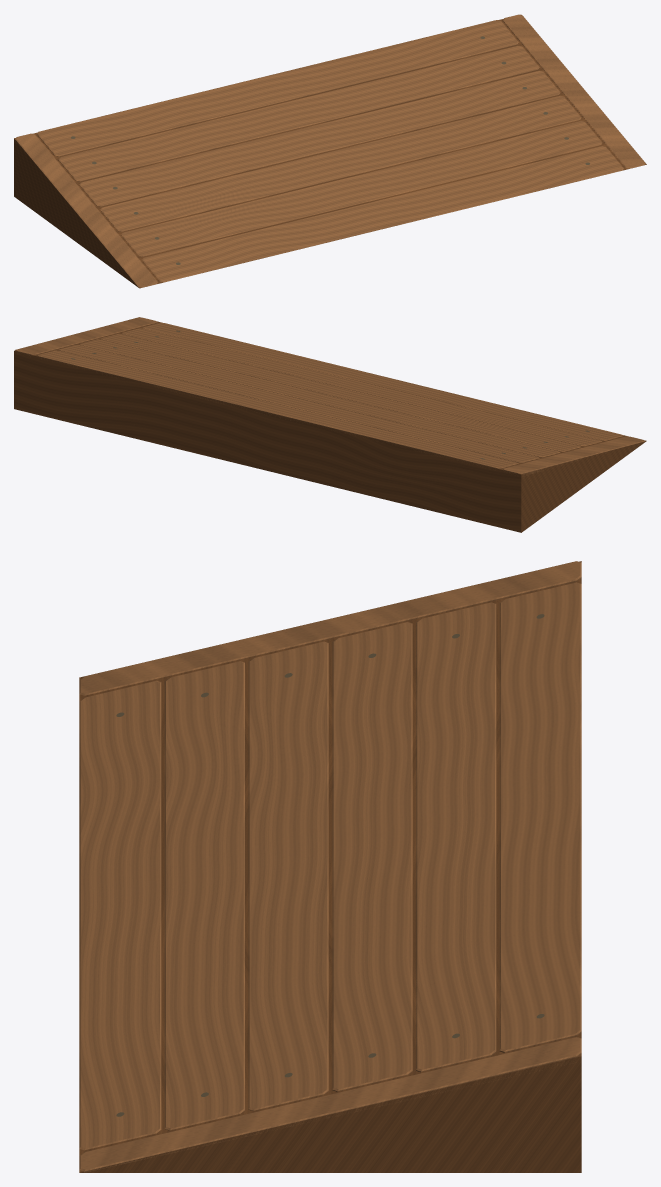
File: theatre_ramp.glb
3 renders of one model, top to bottom at view 1: azimuth 30°, elevation 25°; view 2: azimuth 150°, elevation 25°; view 3: azimuth 270°, elevation 25°, orthographic. The views are drawn at different scales.
Parts seen in each view (by area): view 1: CrossPlanks, RampBacking, FlushSideTrim; view 2: RampBacking, CrossPlanks, FlushSideTrim; view 3: CrossPlanks, RampBacking, FlushSideTrim.
Part boxes in pixels (x1,y1,x2,y2): CrossPlanks: (37,20,623,282); RampBacking: (14,14,646,288); FlushSideTrim: (15,14,645,287); RampBacking: (14,317,646,532); CrossPlanks: (37,322,623,470); FlushSideTrim: (15,317,645,476); CrossPlanks: (79,582,581,1150); RampBacking: (79,561,581,1172); FlushSideTrim: (79,561,581,1172).
Size of the model in its own units: 0.28 by 0.0312 by 0.12.
Materials: 3 (2 with a texture image).
